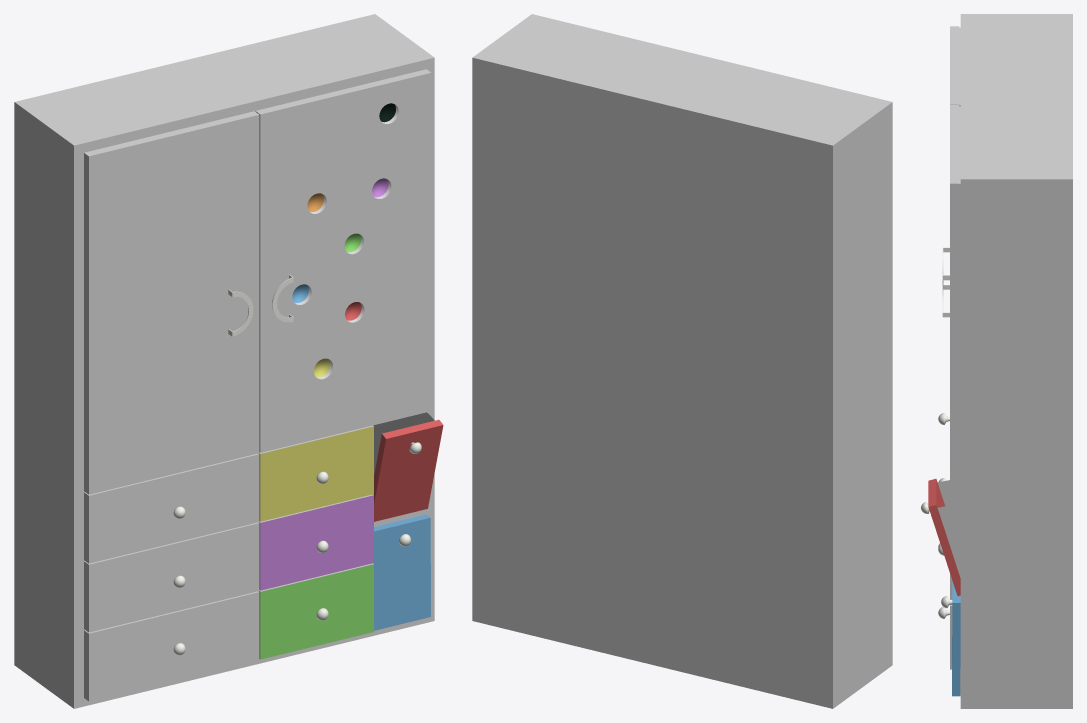
Rendered from b0-cupboard.glb.
3 views of the same model, side by side, from view 1: azimuth 30°, elevation 25°; view 2: azimuth 150°, elevation 25°; view 3: azimuth 270°, elevation 25° (orthographic). The views are drawn at different scales.
Visible parts, largest first — view 1: Cupboard_Plane.012, Upper_Vertical_Drawer_Plane.005, Lower_Vertical_Drawer__Plane.010; view 2: Cupboard_Plane.012; view 3: Cupboard_Plane.012, Upper_Vertical_Drawer_Plane.005, Lower_Vertical_Drawer__Plane.010.
Boxes of the visible parts, left/top/right/bottom form: Cupboard_Plane.012: left=14, top=14, right=434, bottom=708; Upper_Vertical_Drawer_Plane.005: left=373, top=412, right=443, bottom=521; Lower_Vertical_Drawer__Plane.010: left=373, top=514, right=430, bottom=630; Cupboard_Plane.012: left=472, top=14, right=892, bottom=708; Cupboard_Plane.012: left=938, top=14, right=1072, bottom=708; Upper_Vertical_Drawer_Plane.005: left=921, top=478, right=960, bottom=596; Lower_Vertical_Drawer__Plane.010: left=941, top=581, right=960, bottom=696.
Bounding box in the file's own units: 1.01 × 1.5 × 0.39.
